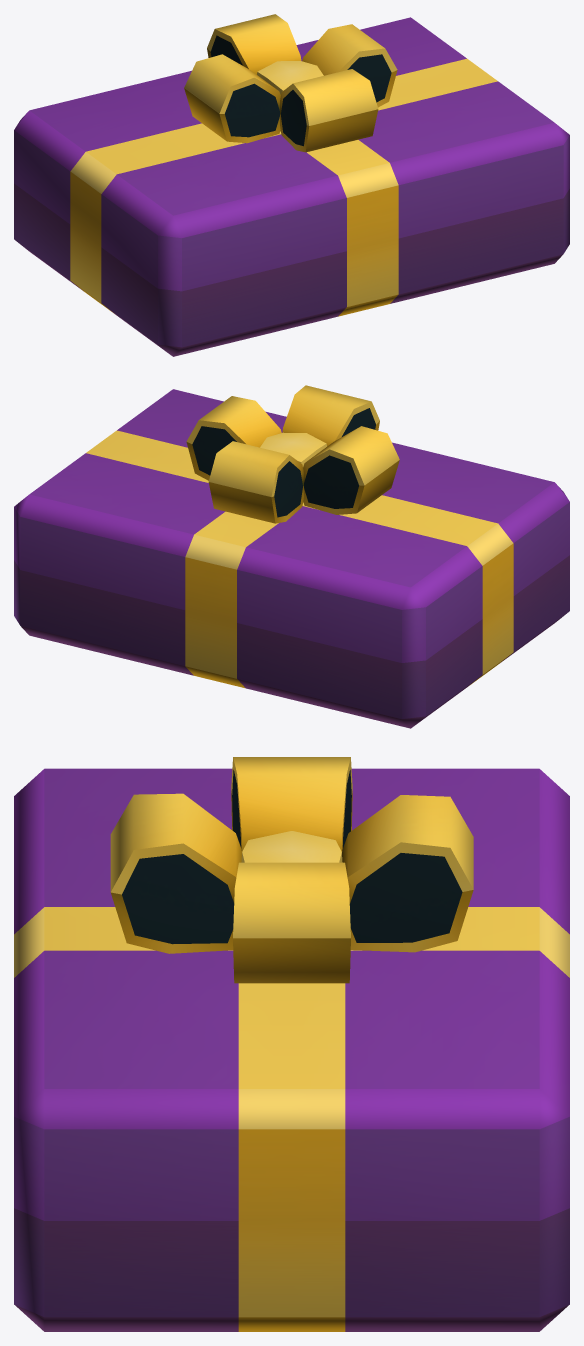
The model's file is presi_square_2_purple.fbx.
3 renders of one model, top to bottom at view 1: azimuth 30°, elevation 25°; view 2: azimuth 150°, elevation 25°; view 3: azimuth 270°, elevation 25°, orthographic. The views are drawn at different scales.
Visible parts, largest first — view 1: presi_square_2_purple; view 2: presi_square_2_purple; view 3: presi_square_2_purple.
Part boxes in pixels (bbox=[...]): presi_square_2_purple: bbox=[14, 14, 569, 356]; presi_square_2_purple: bbox=[14, 385, 569, 728]; presi_square_2_purple: bbox=[14, 757, 569, 1331].
Size of the model in its own units: 156 by 74 by 106.
Materials: 1 (1 with a texture image).
